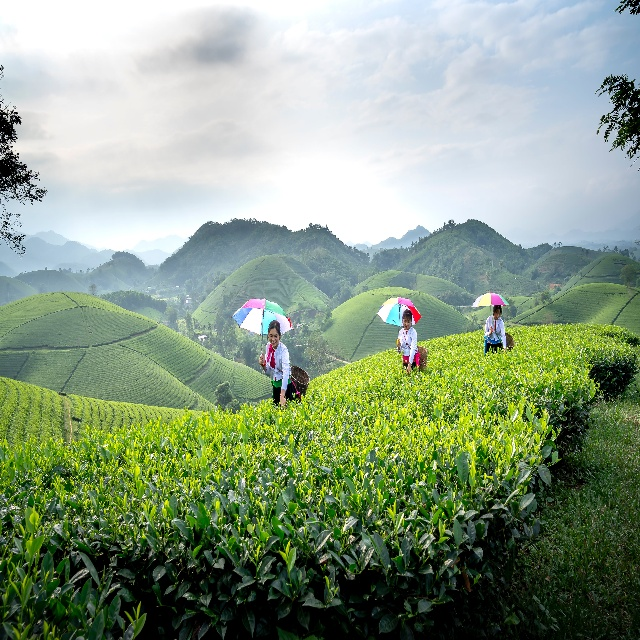Sin_guantes: (280, 394, 287, 408), (259, 351, 265, 367), (396, 337, 401, 348), (489, 325, 493, 335), (407, 366, 411, 374)
